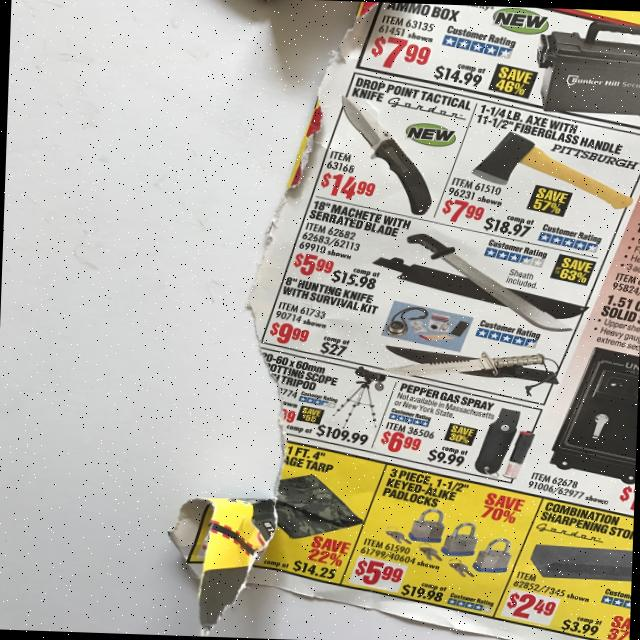paper: (158, 0, 640, 640)
